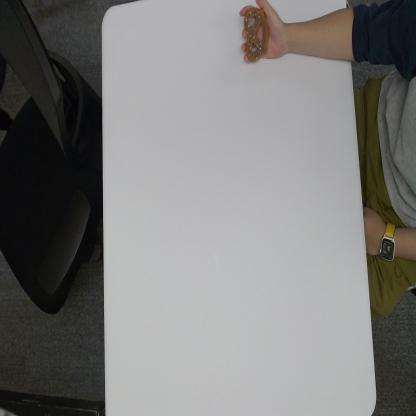Arm: (286, 3, 414, 69)
Pretzel: (241, 3, 271, 63)
